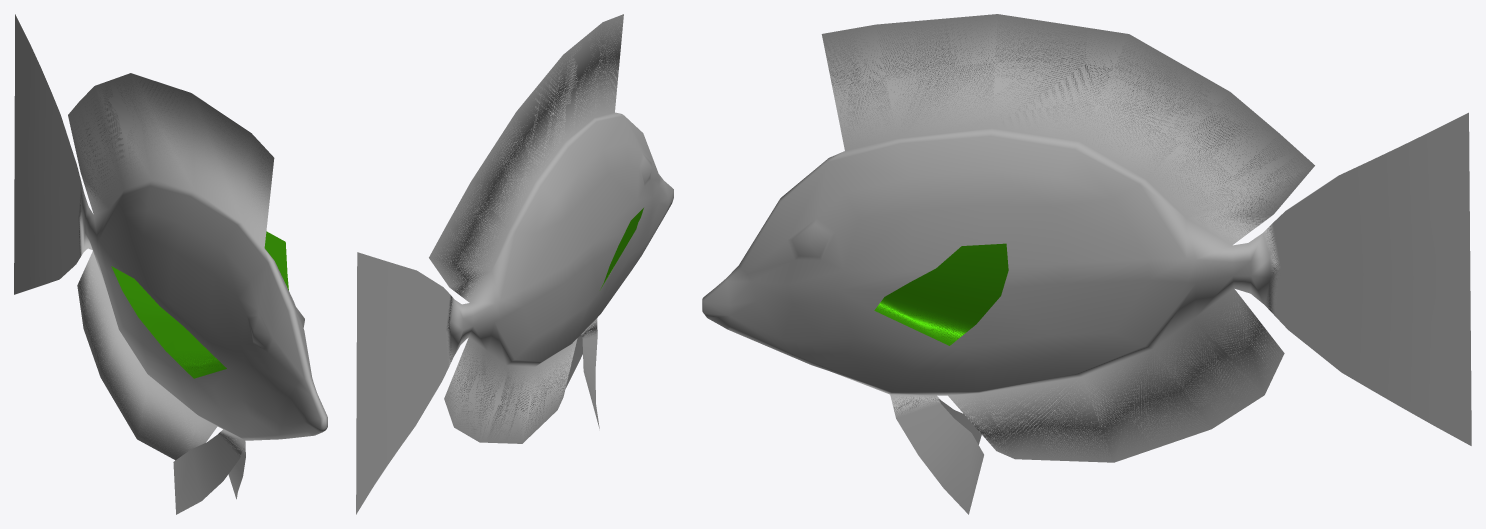
Rendered from Acanthuridae_A_S.fbx.
The picture shows the model from 3 angles, left to right: view 1: azimuth 30°, elevation 25°; view 2: azimuth 150°, elevation 25°; view 3: azimuth 270°, elevation 25°; orthographic projection. The views are drawn at different scales.
Visible parts, largest first — view 1: Acanthuridae_A_S_Mesh; view 2: Acanthuridae_A_S_Mesh; view 3: Acanthuridae_A_S_Mesh.
Boxes of the visible parts, x1,y1,x2,y2 form: Acanthuridae_A_S_Mesh: (14,14,327,514); Acanthuridae_A_S_Mesh: (356,14,673,514); Acanthuridae_A_S_Mesh: (702,14,1471,514).
Bounding box in the file's own units: 0.0028 × 0.00699 × 0.0101.
